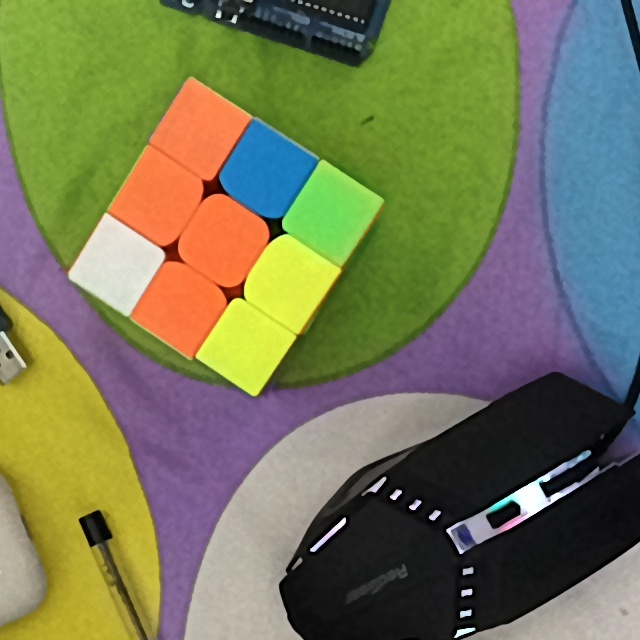tile: (197, 211, 251, 266), (236, 146, 292, 195), (264, 256, 315, 309), (131, 176, 187, 224), (171, 108, 225, 156), (154, 281, 208, 329), (90, 241, 141, 291), (309, 188, 357, 240), (222, 323, 273, 371)
